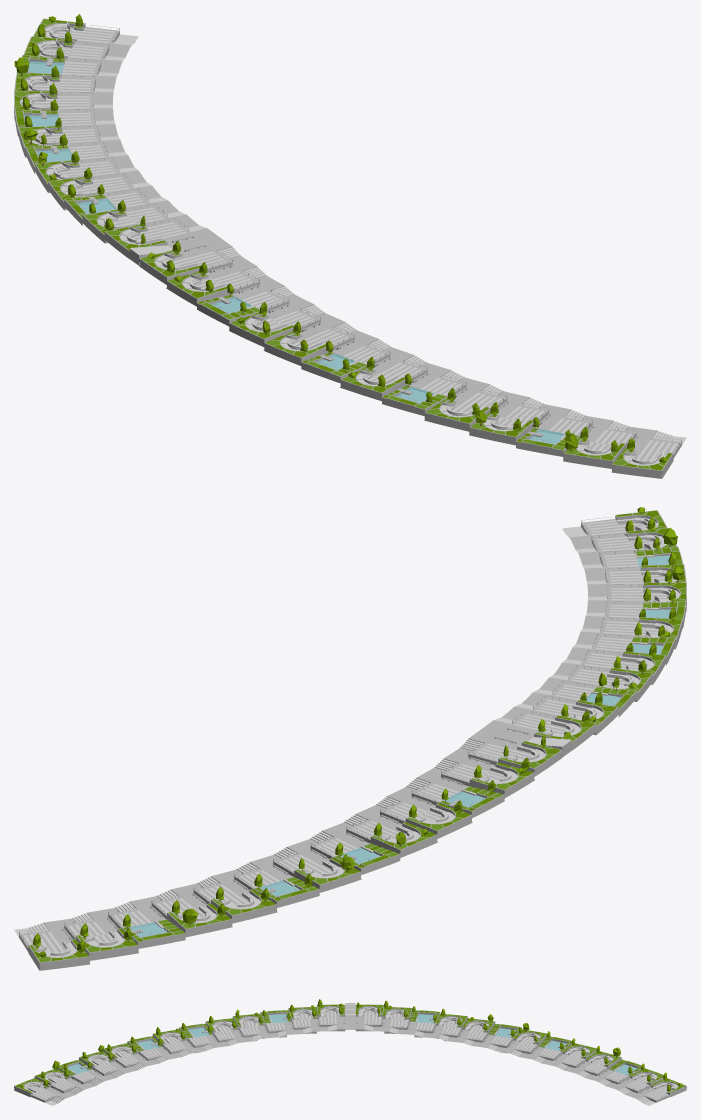
The model's file is ring7_segment.glb.
The picture shows the model from 3 angles, top to bottom: view 1: azimuth 30°, elevation 25°; view 2: azimuth 150°, elevation 25°; view 3: azimuth 270°, elevation 25°; orthographic projection. The views are drawn at different scales.
Visible parts, largest first — view 1: RING_7_MOD; view 2: RING_7_MOD; view 3: RING_7_MOD.
Part boxes in pixels (x1=…): RING_7_MOD: x1=14, y1=14, x2=686, y2=478; RING_7_MOD: x1=14, y1=507, x2=686, y2=970; RING_7_MOD: x1=14, y1=999, x2=686, y2=1105.
Bounding box in the file's own units: 7287 × 1625 × 27999.
Materials: 9 (1 with a texture image).
